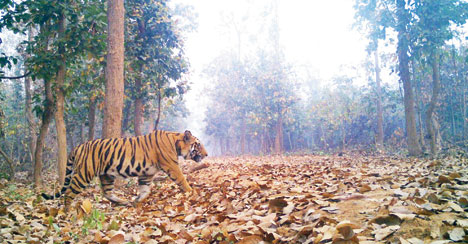Tiger: (32, 121, 212, 215)
